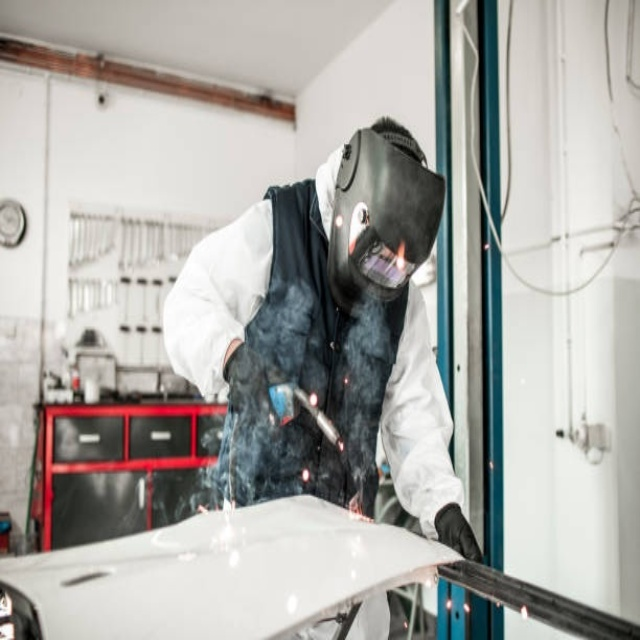Guantes: (224, 339, 286, 419), (434, 502, 484, 563)
